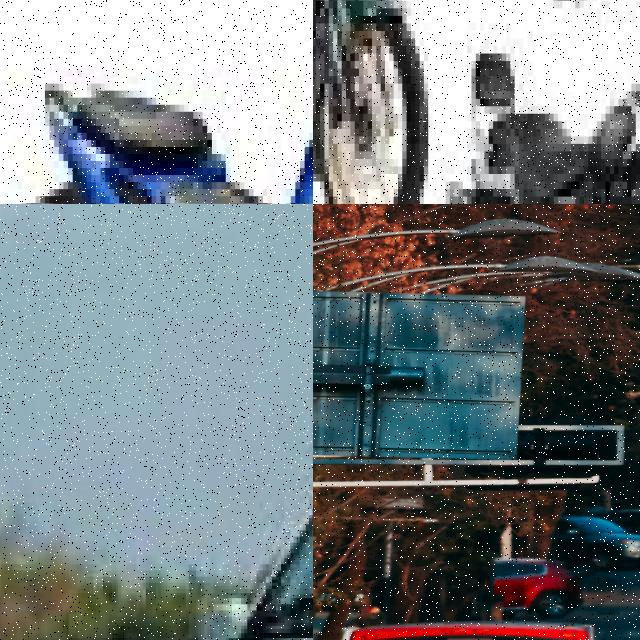bike: (0, 0, 313, 204), (458, 0, 640, 204), (313, 0, 432, 204)
car: (0, 223, 313, 640), (491, 556, 584, 620), (554, 510, 640, 574)
